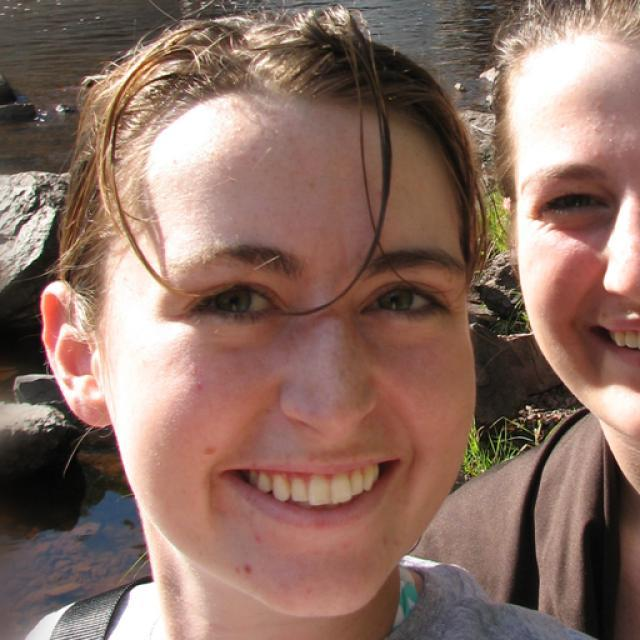happy: (99, 94, 476, 615), (514, 35, 640, 442)
